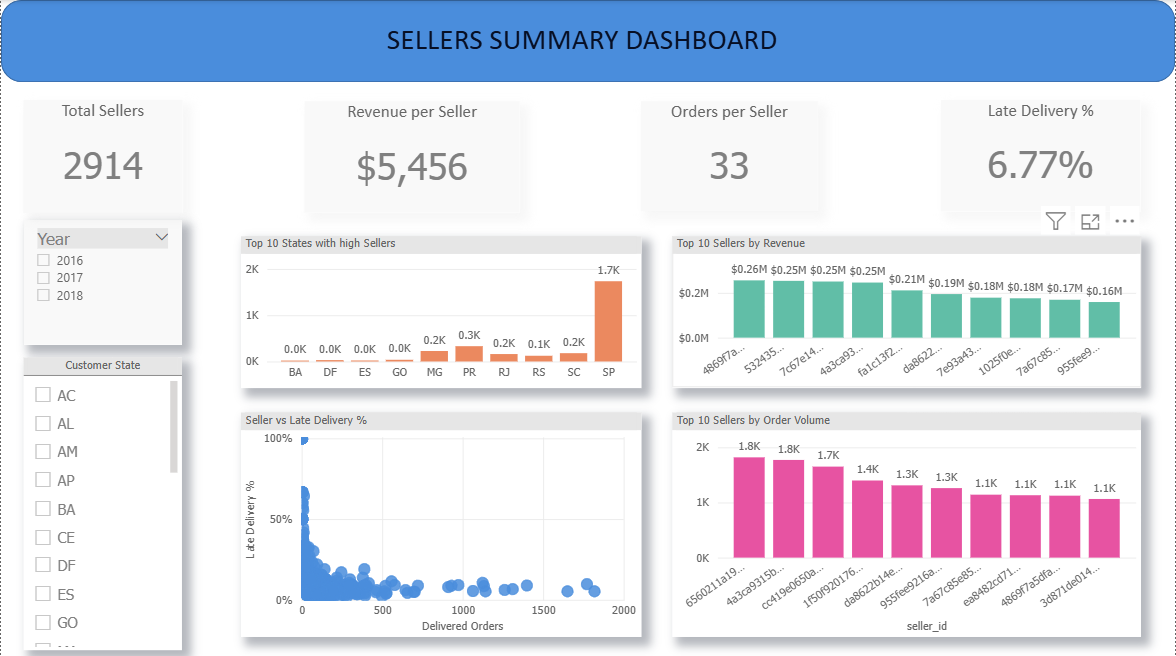

The page's visual inventory and layout, read from the dashboard file:
{"tool":"powerbi","page":{"name":"Sellers","canvas":[1280,720],"ordinal":4},"visuals":[{"type":"shape","box":[0,0,1280.5,89.5],"z":0},{"type":"textbox","box":[415.2,18.3,453.2,53.2],"z":1000},{"type":"card","title":"Total Sellers","fields":{"Values":["AllMeasures.Total Sellers"]},"box":[24.3,109.5,173.4,123.2],"z":2000},{"type":"card","title":"Revenue per Seller","fields":{"Values":["AllMeasures.Revenue per Seller"]},"box":[331.1,111,234.2,121.7],"z":3000},{"type":"card","title":"Orders per Seller","fields":{"Values":["AllMeasures.Orders per Seller"]},"box":[698.6,111,193.2,120.2],"z":4000},{"type":"card","title":"Late Delivery %","fields":{"Values":["AllMeasures.Late Delivery %"]},"box":[1025.1,109.5,217.5,121.7],"z":5000},{"type":"clusteredColumnChart","title":"Top 10 States with high Sellers","fields":{"Y":["AllMeasures.Total Sellers"],"Category":["DimSeller.seller_state","DimSeller.seller_city"]},"box":[261.6,257,436.5,165.8],"z":6000},{"type":"clusteredColumnChart","title":"Top 10 Sellers by Revenue","fields":{"Y":["AllMeasures.Total Revenue"],"Category":["DimSeller.seller_id"]},"box":[731.6,257,511,165.8],"z":7000},{"type":"clusteredColumnChart","title":"Top 10 Sellers by Order Volume","fields":{"Y":["AllMeasures.Total Orders"],"Category":["DimSeller.seller_id"]},"box":[731.6,450.2,511,244.9],"z":8000},{"type":"scatterChart","title":"Seller vs Late Delivery %","fields":{"X":["AllMeasures.Delivered Orders"],"Y":["AllMeasures.Late Delivery %"],"Category":["DimSeller.seller_id"]},"box":[261.6,450.2,436.5,244.9],"z":9000},{"type":"slicer","fields":{"Values":["DimDate.Year"]},"box":[24.7,239.9,172.8,135.7],"z":10000},{"type":"slicer","title":"Customer State","fields":{"Values":["DimCustomer.customer_state"]},"box":[24.7,389.4,172.8,319.5],"z":11000}]}

Visuals, with their boxes in screenshot pixels (x1, y1, x2, y2), scaled from the page's 1280x720 canvas onto the 1176x656 screenshot:
shape: region(0, 0, 1175, 82)
textbox: region(381, 17, 798, 65)
"Total Sellers" card: region(22, 100, 182, 212)
"Revenue per Seller" card: region(304, 101, 519, 212)
"Orders per Seller" card: region(642, 101, 819, 211)
"Late Delivery %" card: region(942, 100, 1142, 211)
"Top 10 States with high Sellers" clusteredColumnChart: region(240, 234, 641, 385)
"Top 10 Sellers by Revenue" clusteredColumnChart: region(672, 234, 1142, 385)
"Top 10 Sellers by Order Volume" clusteredColumnChart: region(672, 410, 1142, 633)
"Seller vs Late Delivery %" scatterChart: region(240, 410, 641, 633)
slicer - DimDate.Year: region(23, 219, 181, 342)
"Customer State" slicer: region(23, 355, 181, 646)
